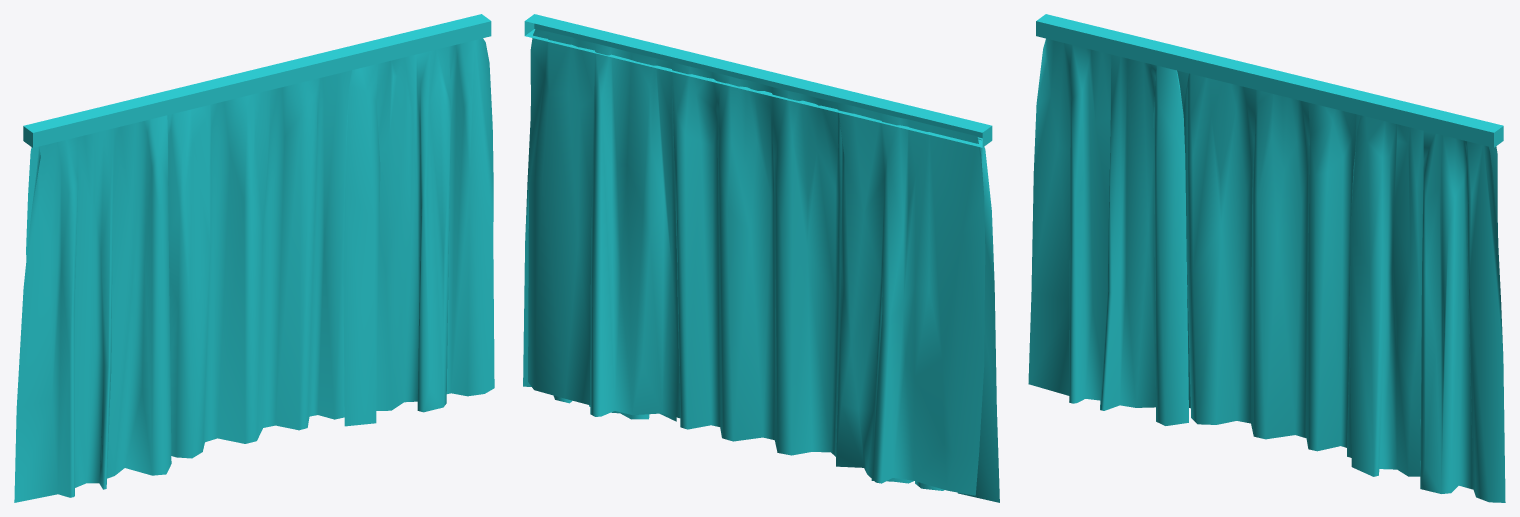
Rendered from 1curtains.fbx.
The picture shows the model from 3 angles, left to right: view 1: azimuth 30°, elevation 25°; view 2: azimuth 150°, elevation 25°; view 3: azimuth 330°, elevation 25°; orthographic projection.
Visible parts, largest first — view 1: curtains_low; view 2: curtains_low; view 3: curtains_low.
Boxes of the visible parts, <box> form: curtains_low: <box>14,14,494,502</box>; curtains_low: <box>523,14,999,502</box>; curtains_low: <box>1028,14,1505,502</box>.
Size of the model in its own units: 358 by 266 by 38.62.
